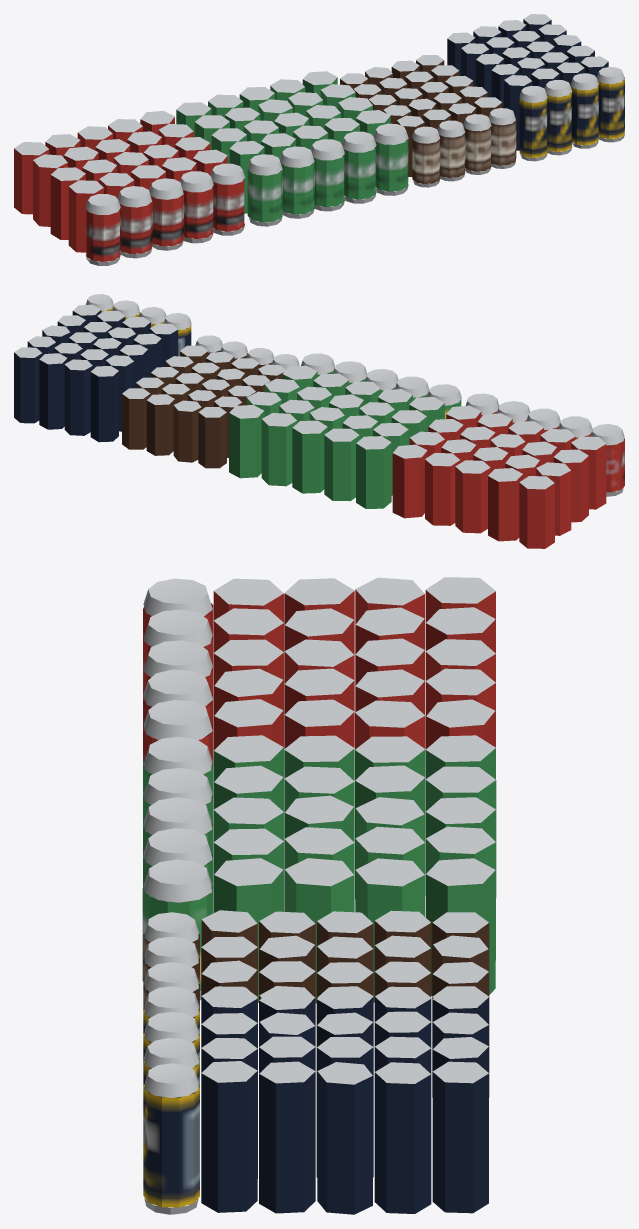
Rendered from SC_Prod_Row_Cans.gltf.
3 views of the same model, one above another, from view 1: azimuth 30°, elevation 25°; view 2: azimuth 150°, elevation 25°; view 3: azimuth 270°, elevation 25° (orthographic). The views are drawn at different scales.
Visible parts, largest first — view 1: SC_Prod_Row_Cans; view 2: SC_Prod_Row_Cans; view 3: SC_Prod_Row_Cans.
Boxes of the visible parts, x1,y1,x2,y2 form: SC_Prod_Row_Cans: (14, 14, 624, 265); SC_Prod_Row_Cans: (14, 294, 624, 548); SC_Prod_Row_Cans: (142, 577, 496, 1214).
Bounding box in the file's own units: 1.15 × 0.134 × 0.33.
2 materials, 2 textured.
